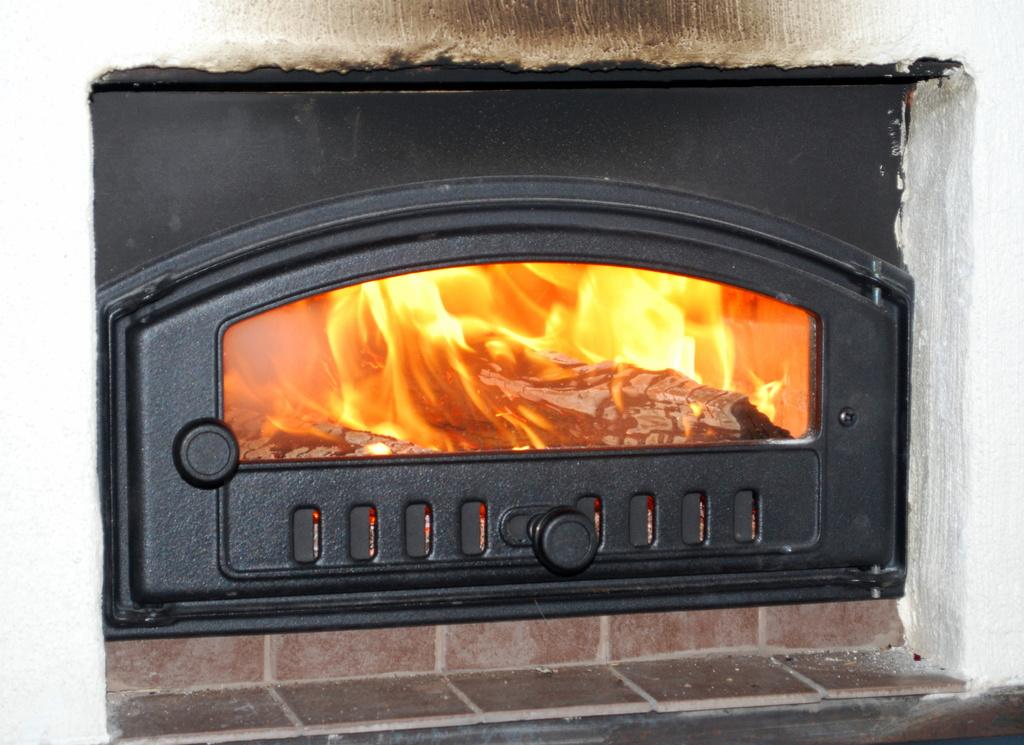Fire: (221, 277, 858, 452)
